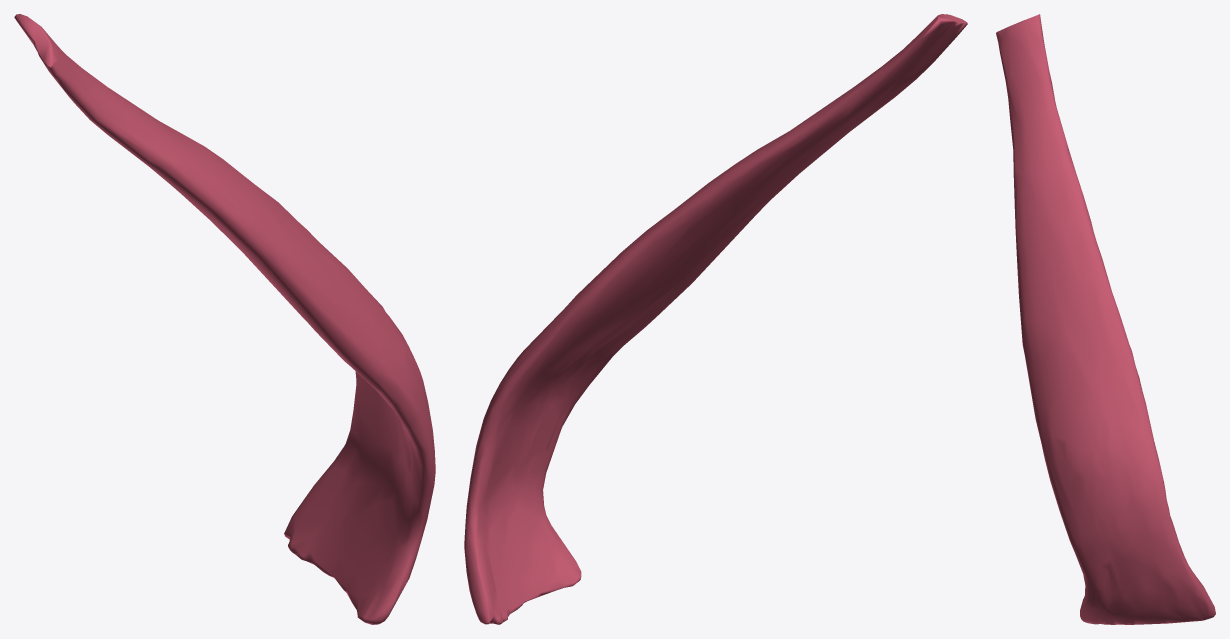
The picture shows the model from 3 angles, left to right: view 1: azimuth 30°, elevation 25°; view 2: azimuth 150°, elevation 25°; view 3: azimuth 270°, elevation 25°; orthographic projection. The views are drawn at different scales.
Parts seen in each view (by area): view 1: 左侧外直肌; view 2: 左侧外直肌; view 3: 左侧外直肌.
Boxes of the visible parts, x1,y1,x2,y2 form: 左侧外直肌: (14, 14, 435, 624); 左侧外直肌: (464, 14, 967, 624); 左侧外直肌: (996, 14, 1215, 624).
Bounding box in the file's own units: 0.039 × 0.0586 × 0.0243.
